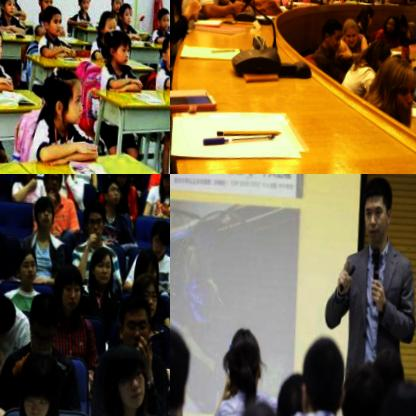head: (296, 337, 349, 416), (102, 342, 151, 413), (219, 322, 262, 393), (336, 359, 389, 416), (41, 62, 88, 125), (357, 175, 397, 246), (14, 355, 59, 416), (366, 342, 407, 408), (23, 287, 62, 352), (114, 291, 153, 350), (170, 326, 195, 416), (377, 55, 415, 114), (51, 262, 84, 316), (370, 379, 416, 416), (85, 239, 114, 288), (130, 272, 160, 316), (102, 25, 131, 66), (80, 199, 107, 242), (14, 241, 38, 286), (364, 35, 390, 71), (29, 194, 55, 230), (134, 244, 159, 281), (0, 291, 17, 343), (147, 218, 170, 255), (39, 3, 62, 37), (95, 6, 117, 40), (99, 175, 120, 204), (341, 14, 360, 46), (320, 18, 339, 49), (39, 174, 63, 193), (159, 29, 170, 67), (115, 0, 133, 23), (155, 3, 170, 30), (359, 5, 375, 30), (394, 10, 410, 33), (157, 174, 170, 199), (384, 15, 398, 33), (0, 0, 16, 15), (106, 174, 128, 184), (17, 174, 40, 183), (109, 0, 123, 14), (72, 0, 91, 10), (36, 0, 53, 11)
